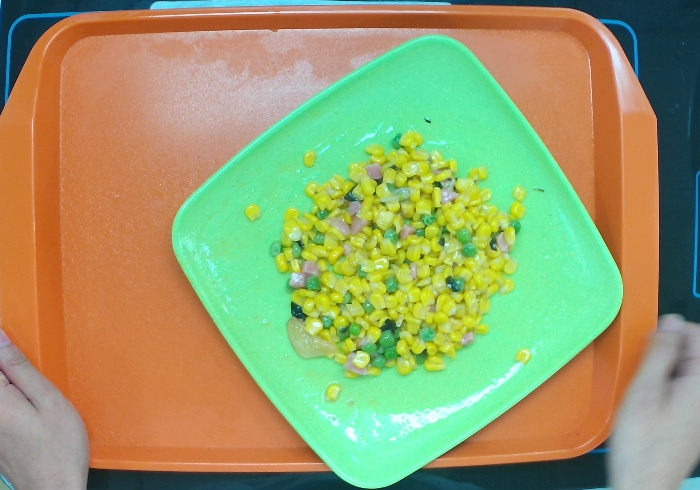ZNLD-Lv_Fang_Pan: (167, 34, 634, 490)
